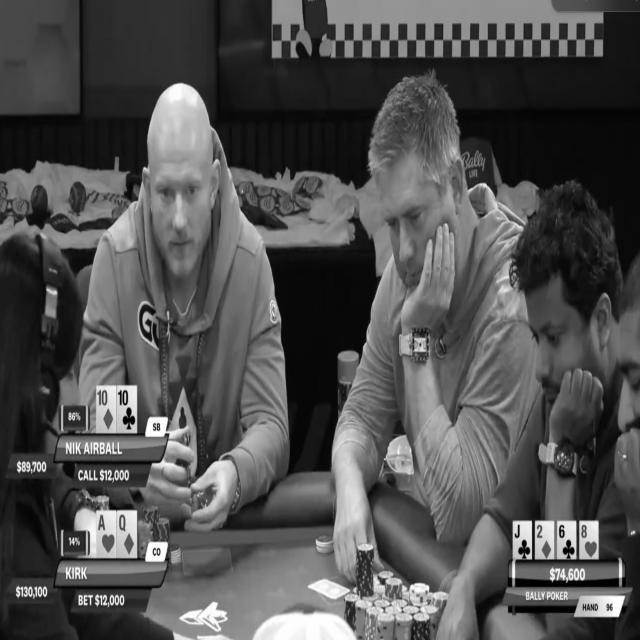10C: (118, 386, 136, 432)
10D: (97, 387, 115, 432)
2D: (536, 522, 554, 559)
6C: (558, 522, 576, 559)
8H: (580, 522, 598, 560)
AH: (97, 512, 116, 558)
JC: (514, 522, 532, 559)
QD: (118, 512, 136, 558)
